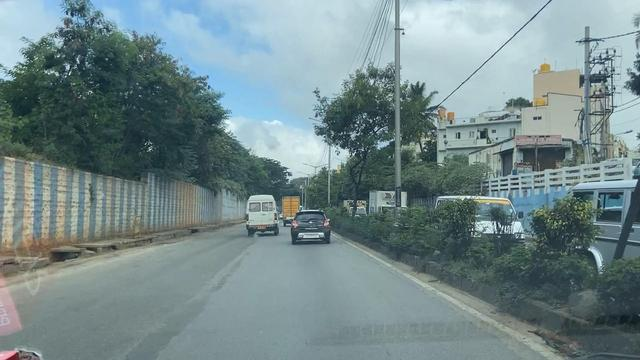HMV: (243, 194, 280, 237)
LMV: (291, 209, 331, 242)
UnsurfacedRoad: (123, 285, 226, 360)
